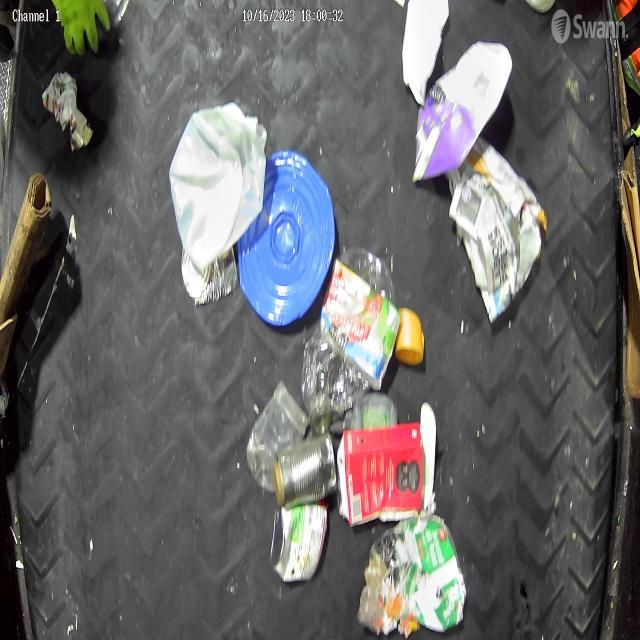can: (270, 506, 328, 584), (277, 435, 338, 508), (181, 243, 239, 306)
milk_jug: (168, 101, 268, 271)
non_white_jug: (412, 40, 512, 185), (337, 401, 437, 528)
